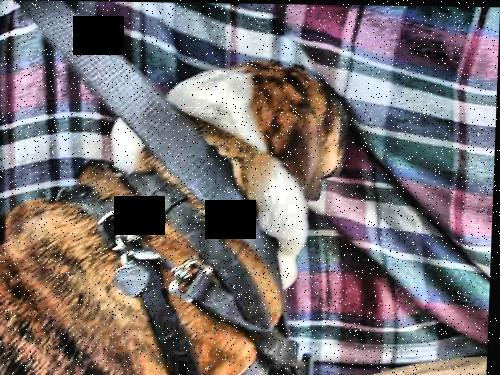seatbelt: (26, 6, 273, 232)
